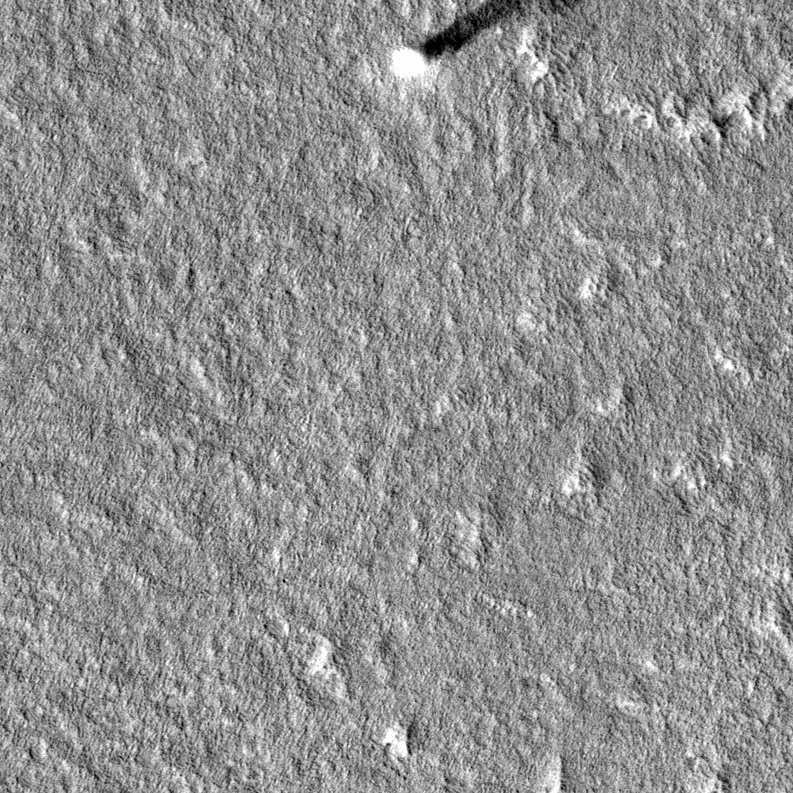dust_devil: (388, 1, 576, 83)
